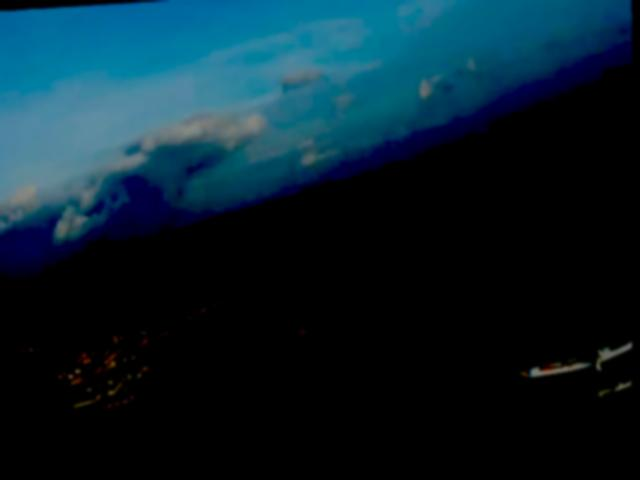iha: (514, 325, 634, 407)
